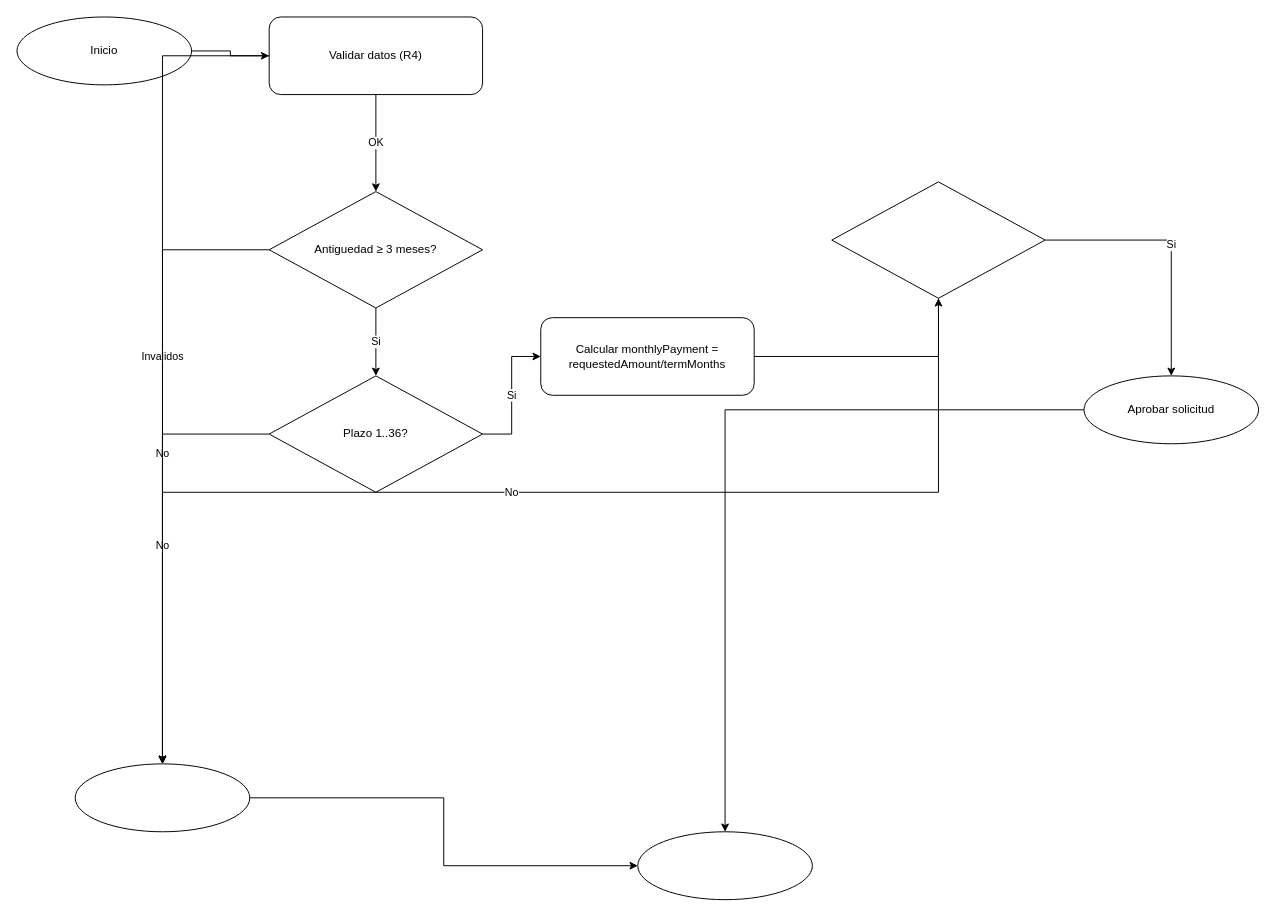
This 1276x917 diagram has some shape labels left out. The shapes that lost their labels are listed below. From the top down, each one's box as (x1, y1, x2, y2) in pixels, then its label:
(831, 181, 1045, 298): monthlyPayment ≤ 40% salario?
(74, 763, 250, 832): Rechazar solicitud
(637, 831, 812, 900): Fin
